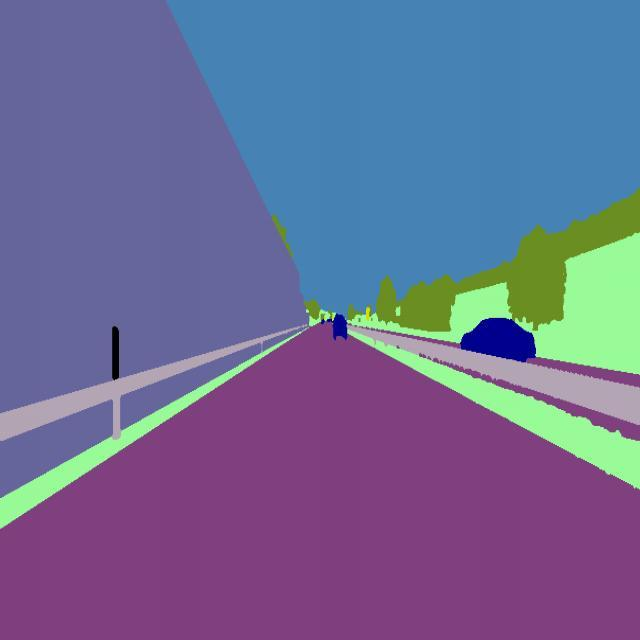safe: (458, 314, 540, 366), (331, 311, 348, 341)
